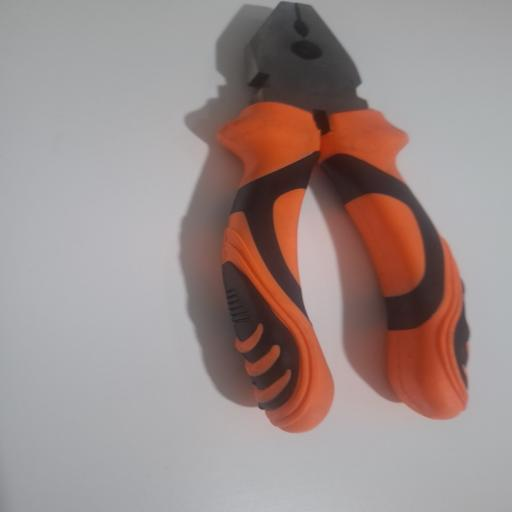alicate: (216, 0, 472, 436)
